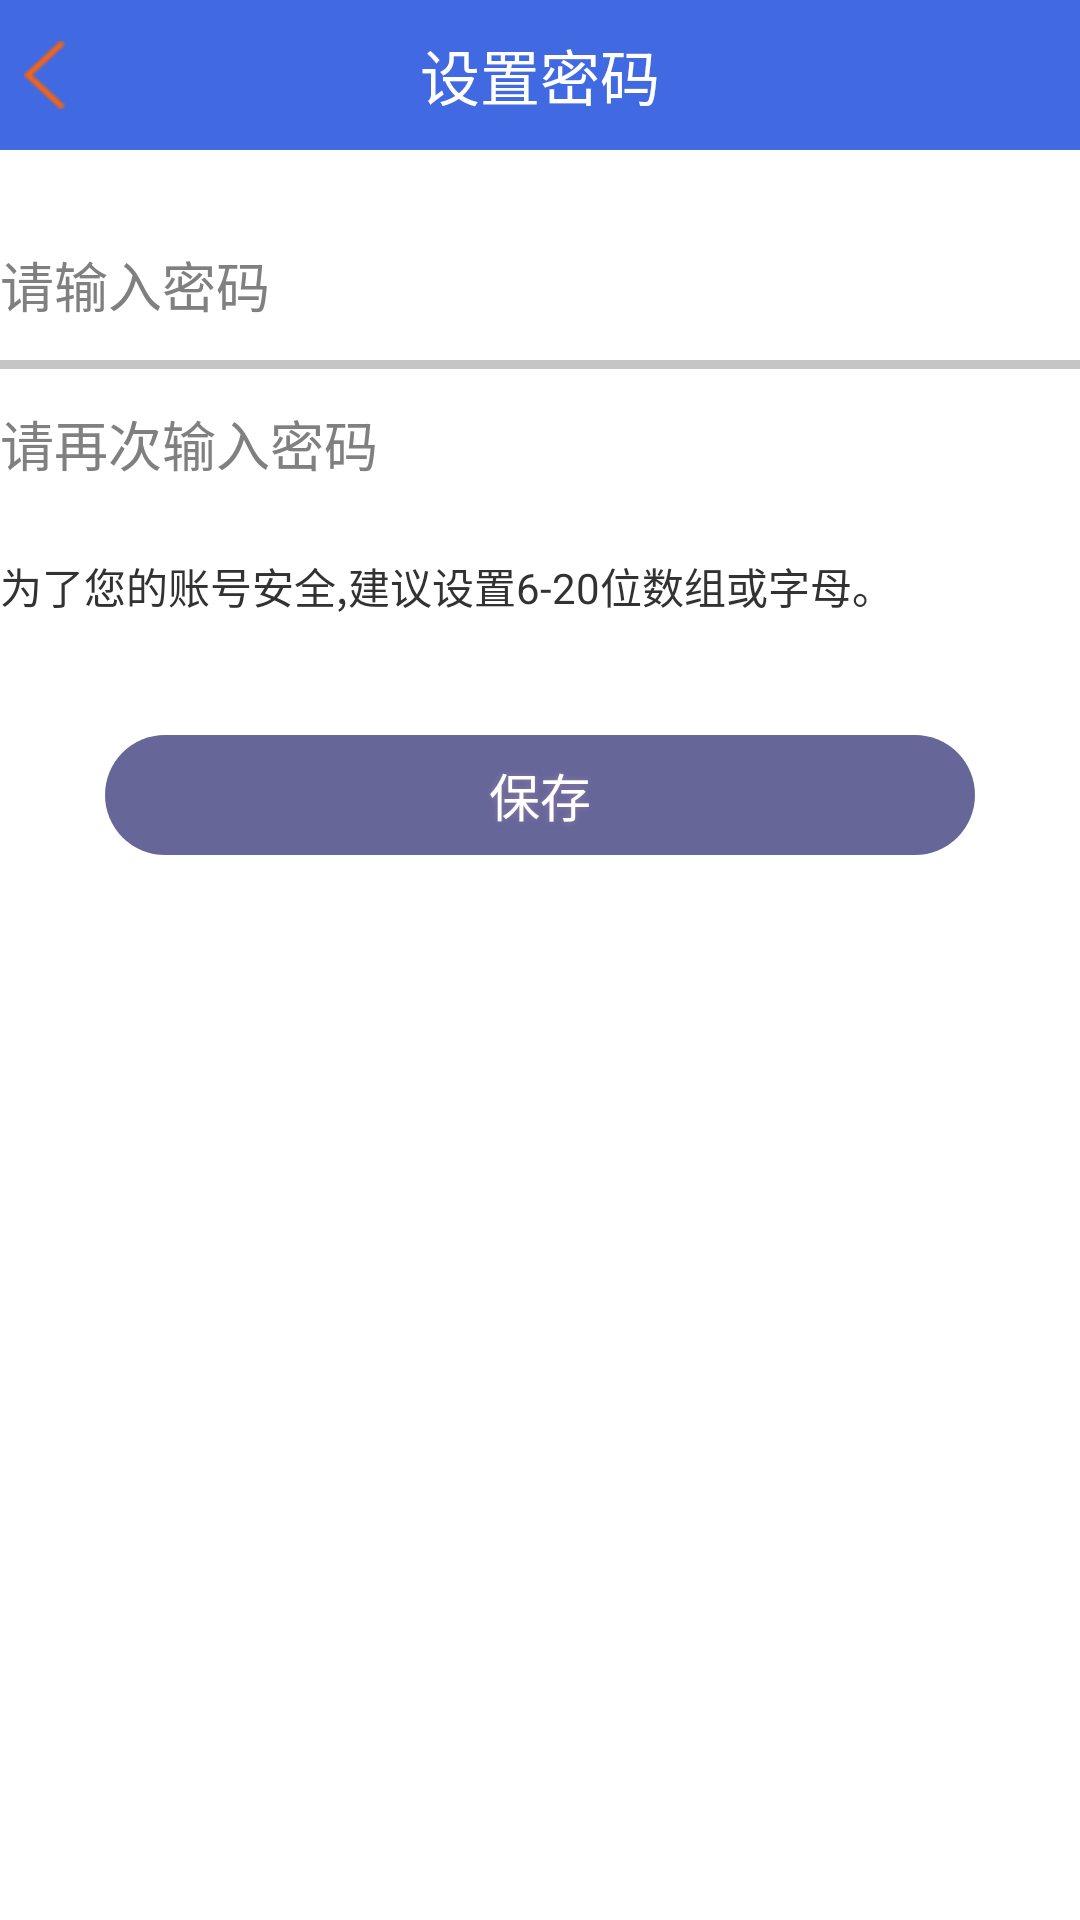

Icon bounding boxes for this 1080w x 1920h phone screenshot, format box(x1, y1, x2, y2):
back: box(24, 41, 66, 109)
